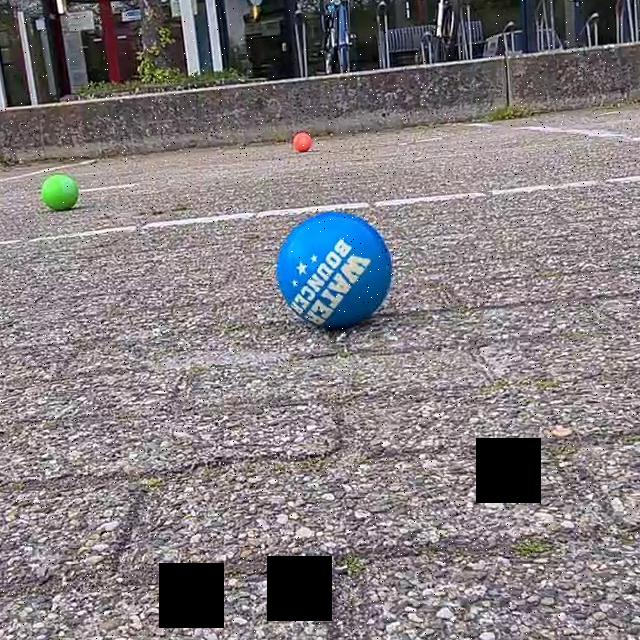ball: (38, 173, 82, 213), (292, 130, 314, 157)
